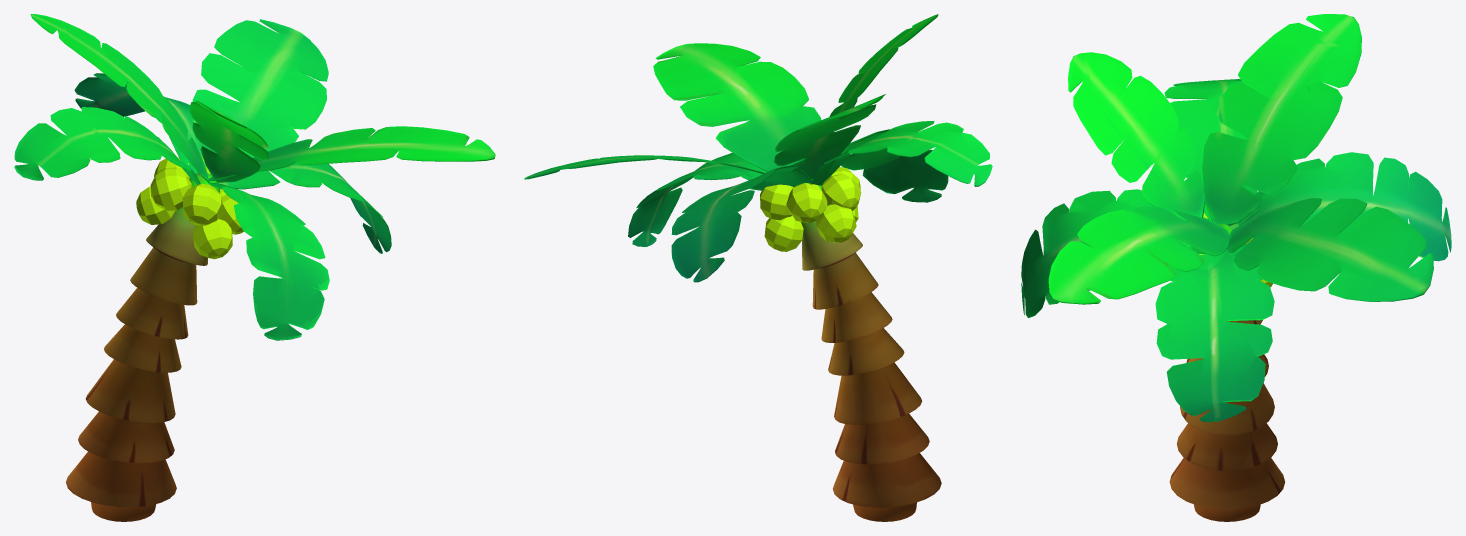
The model's file is LongPalm_LowPolyPalmTextured.fbx.
3 views of the same model, side by side, from view 1: azimuth 30°, elevation 25°; view 2: azimuth 150°, elevation 25°; view 3: azimuth 270°, elevation 25° (orthographic). The views are drawn at different scales.
Visible parts, largest first — view 1: polySurface14; view 2: polySurface14; view 3: polySurface14.
Boxes of the visible parts, x1,y1,x2,y2 form: polySurface14: (14,14,495,521); polySurface14: (524,14,992,521); polySurface14: (1021,14,1451,521).
Bounding box in the file's own units: 987 × 1092 × 892.
